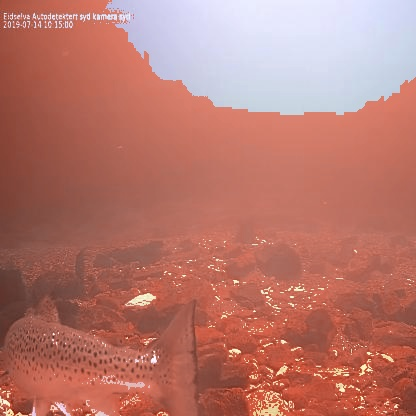salmon: (0, 288, 201, 416)
